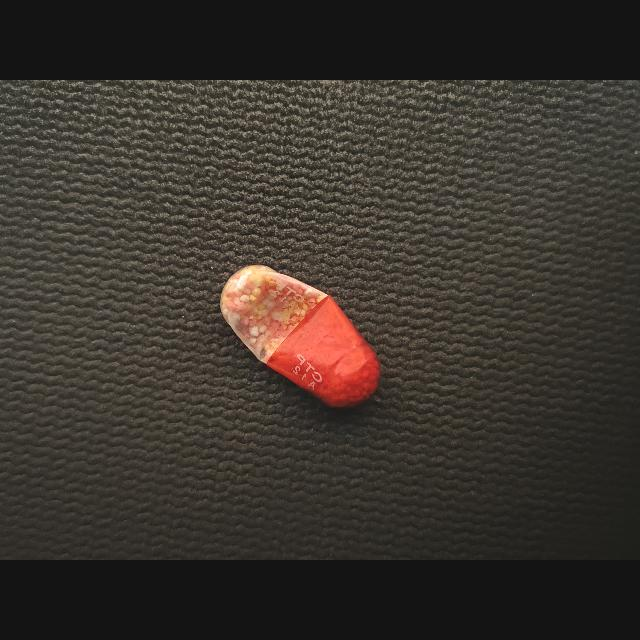Defective Capsule: (220, 265, 381, 407)
